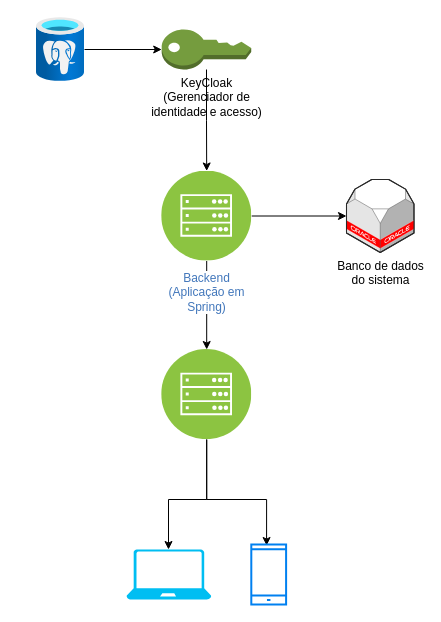
The diagram is 441 pixels wide and 622 high, and some of its shapes have lost their labels. Each missing label, with the centre of its shape:
Banco de dados dos usuários: point (60, 49)
Frontend: point (206, 394)
